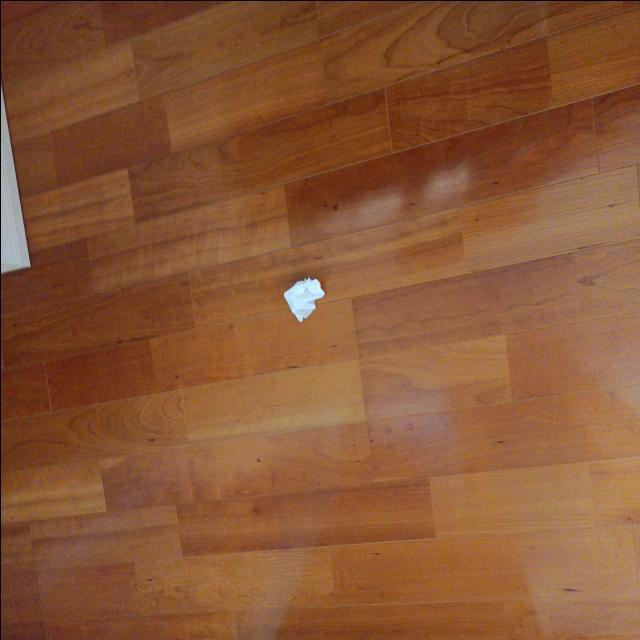Paper: (276, 272, 318, 336)
